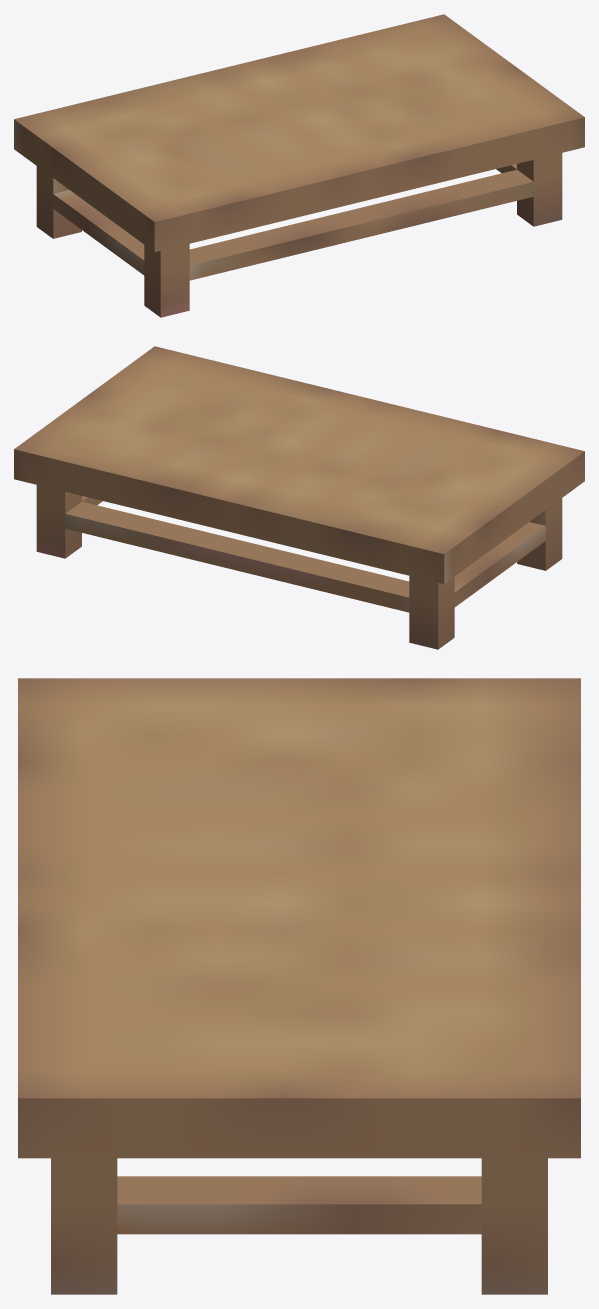
The model's file is CenterTable_00.obj.
The picture shows the model from 3 angles, top to bottom: view 1: azimuth 30°, elevation 25°; view 2: azimuth 150°, elevation 25°; view 3: azimuth 270°, elevation 25°; orthographic projection. The views are drawn at different scales.
Parts seen in each view (by area): view 1: CenterTable_00; view 2: CenterTable_00; view 3: CenterTable_00.
Boxes of the visible parts, <box> form: CenterTable_00: <box>14,14,584,317</box>; CenterTable_00: <box>14,346,584,649</box>; CenterTable_00: <box>18,678,580,1294</box>.
Size of the model in its own units: 1.5 by 0.35 by 0.85.
